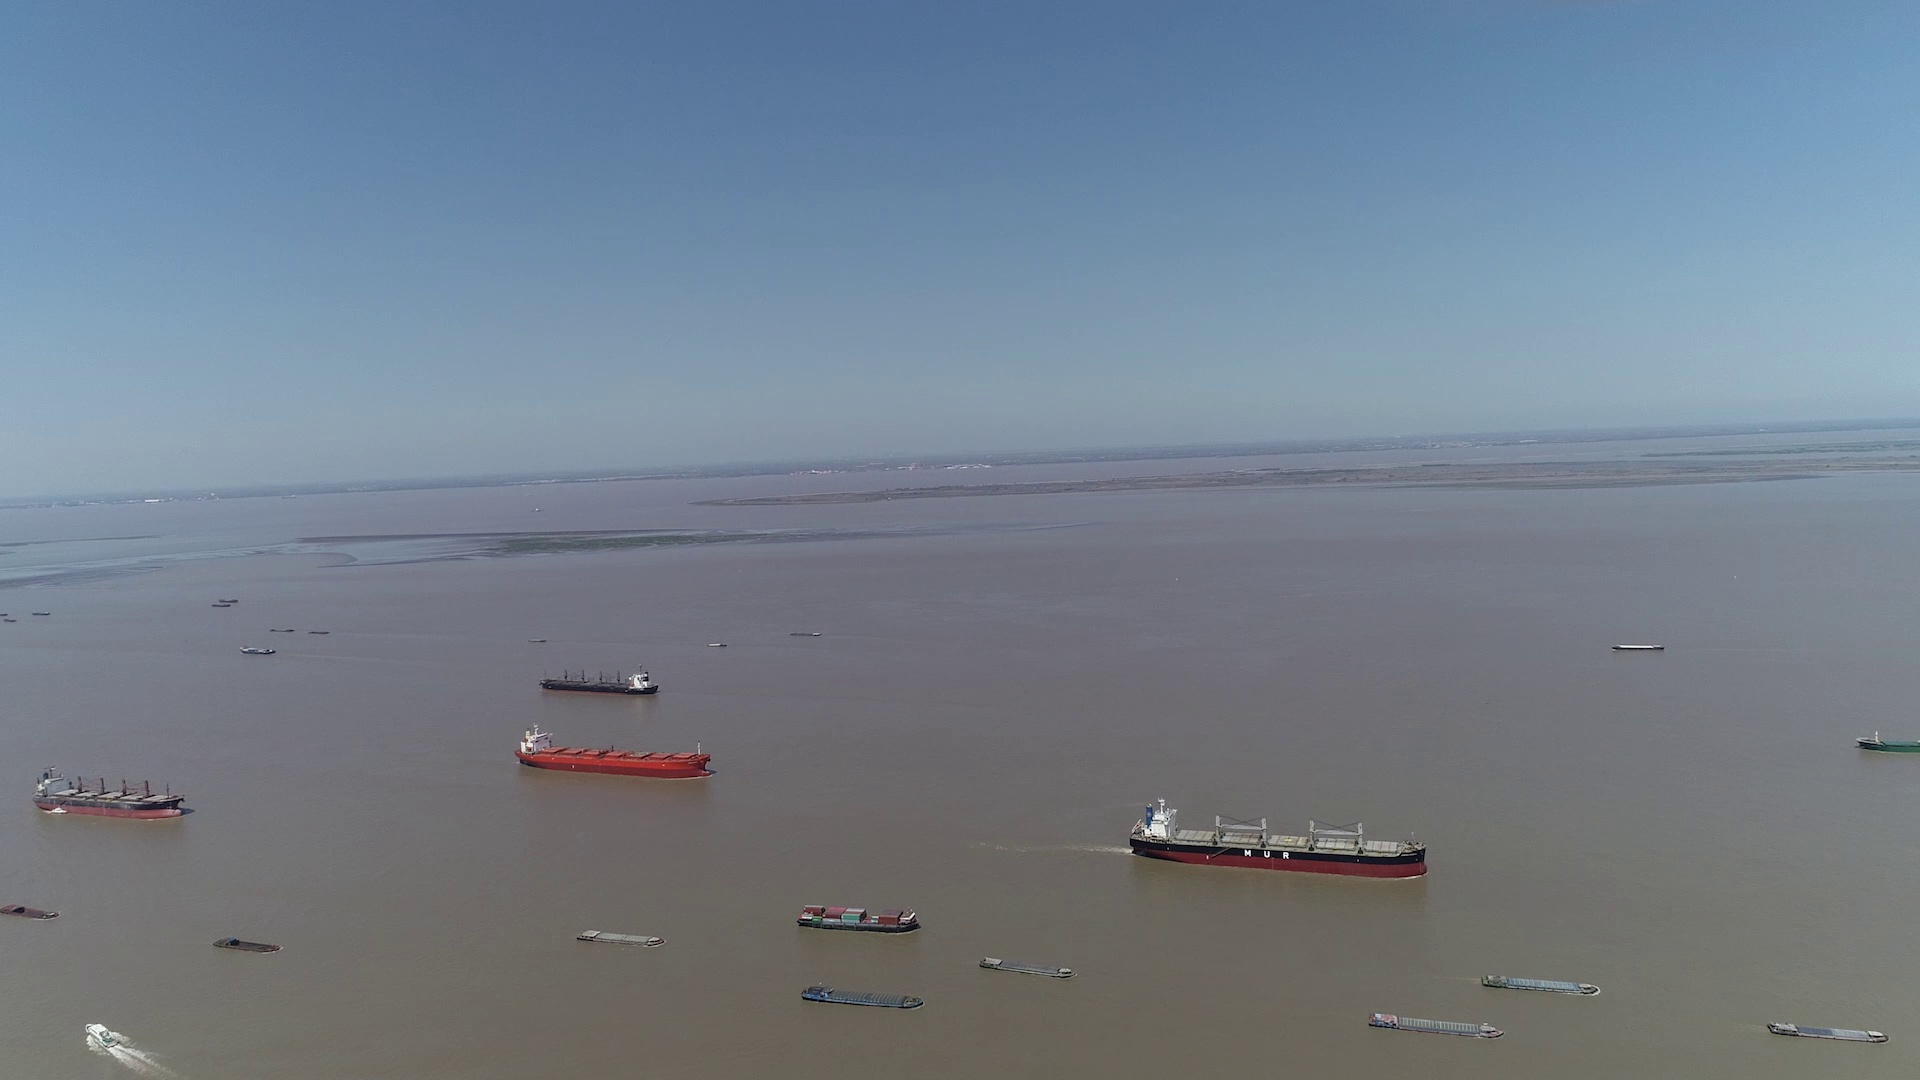ship: (1131, 796, 1424, 880), (514, 723, 709, 777), (516, 696, 691, 753), (32, 766, 185, 819), (1366, 1010, 1503, 1039), (542, 665, 659, 696), (796, 905, 919, 934), (802, 982, 924, 1007), (1768, 1021, 1888, 1044), (1481, 972, 1600, 996), (978, 955, 1075, 977), (1857, 727, 1919, 754), (576, 928, 666, 947), (84, 1017, 124, 1051), (0, 901, 59, 919), (214, 938, 282, 953), (1614, 642, 1664, 651), (241, 646, 278, 655)
